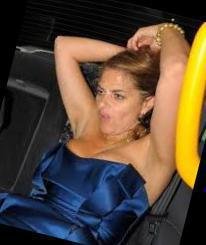Drunk: (94, 70, 140, 137)
